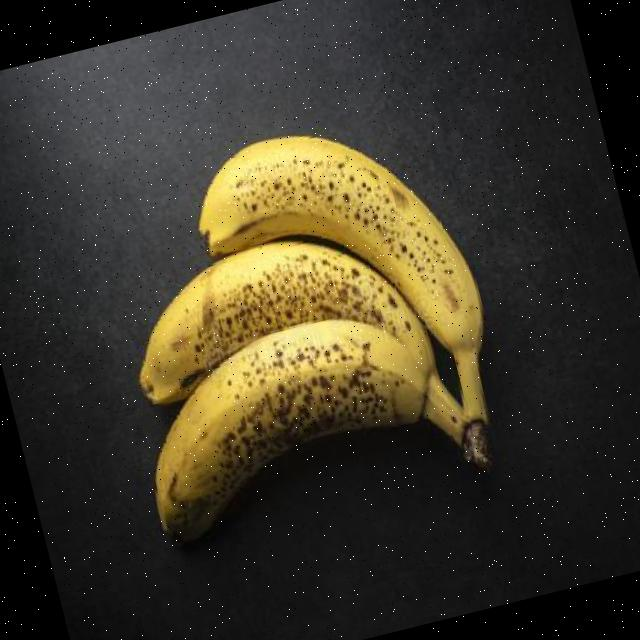banana: (197, 135, 492, 469), (153, 317, 426, 546), (138, 256, 412, 408)
